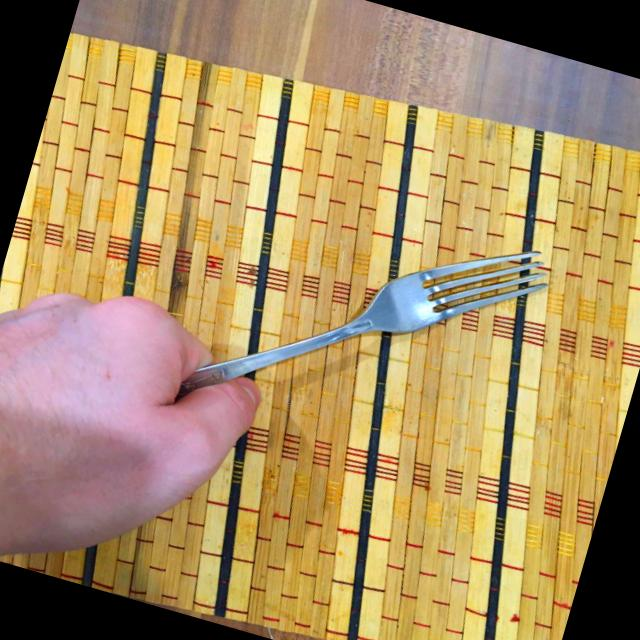fork: (148, 159, 556, 499)
